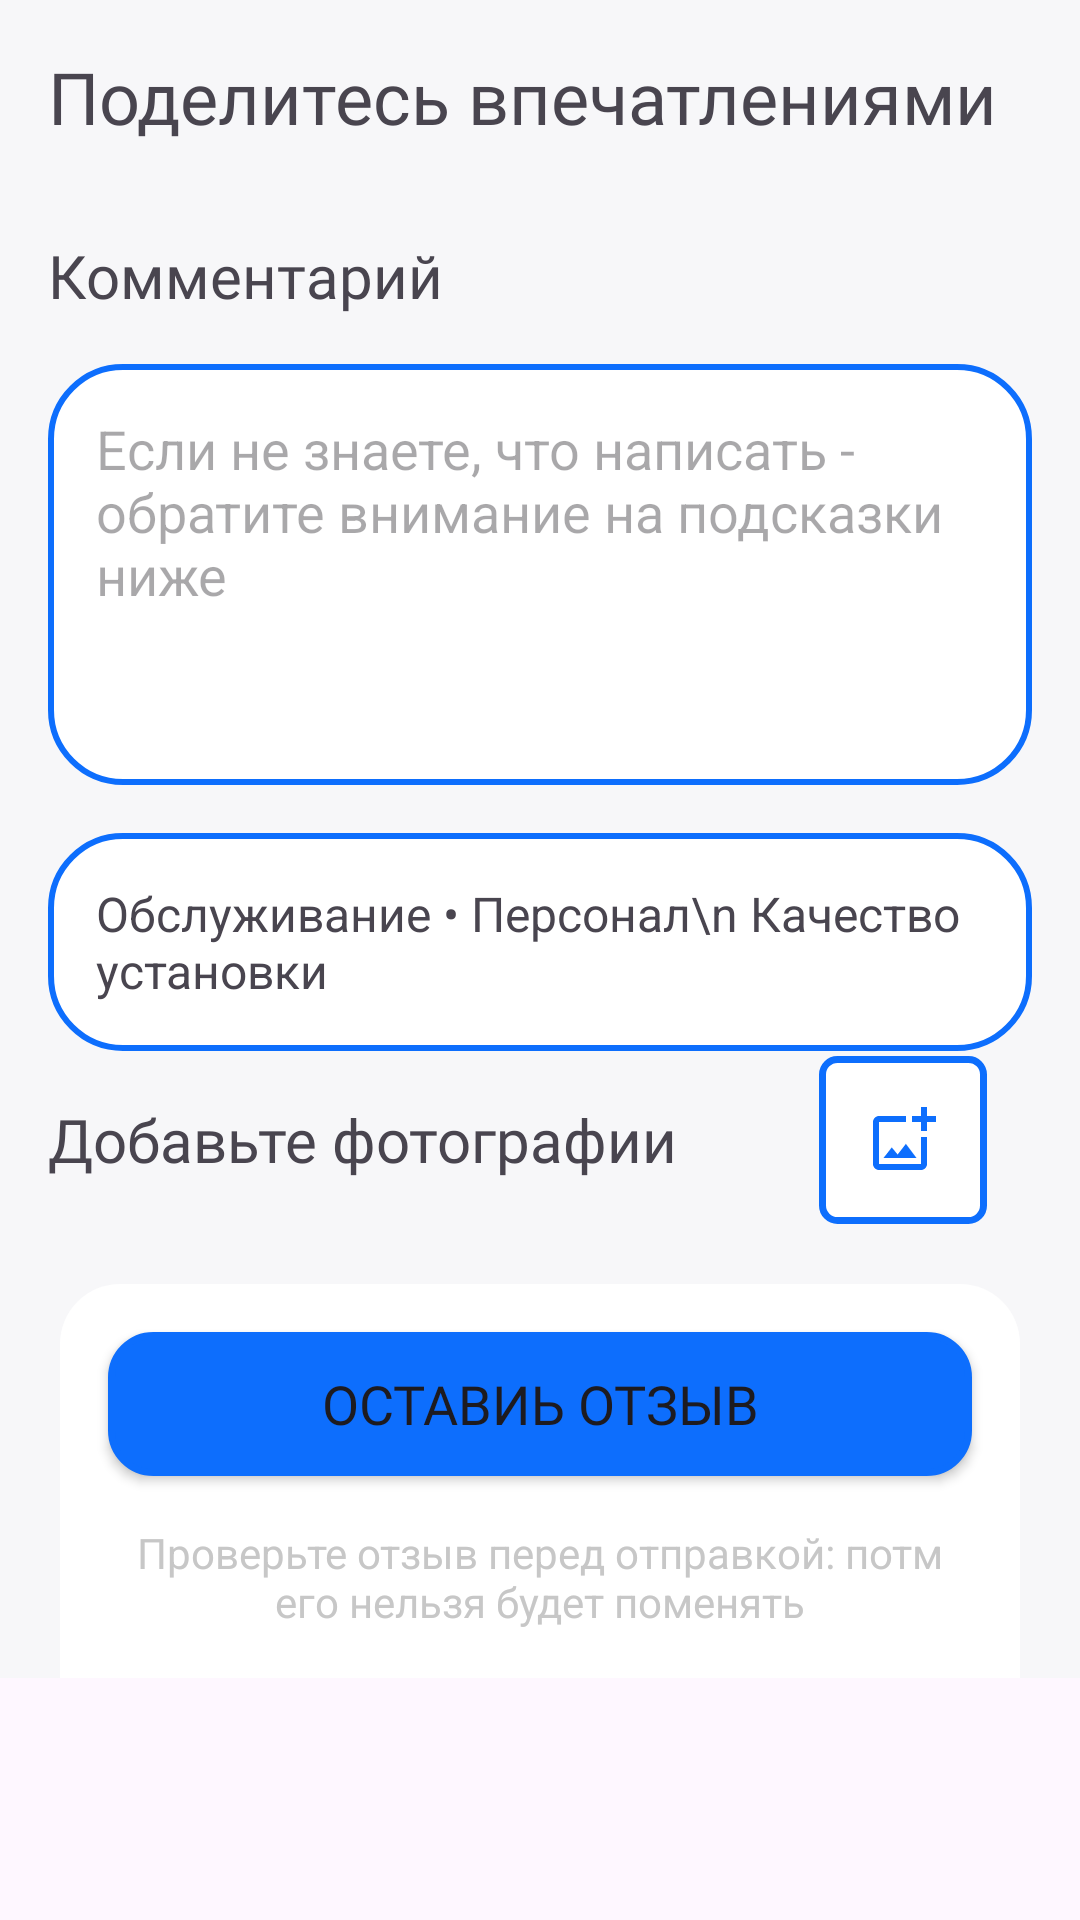

Icon click points for this 1080w x 1920h phone screenshot, format point (x, y):
add: point (903, 1140)
